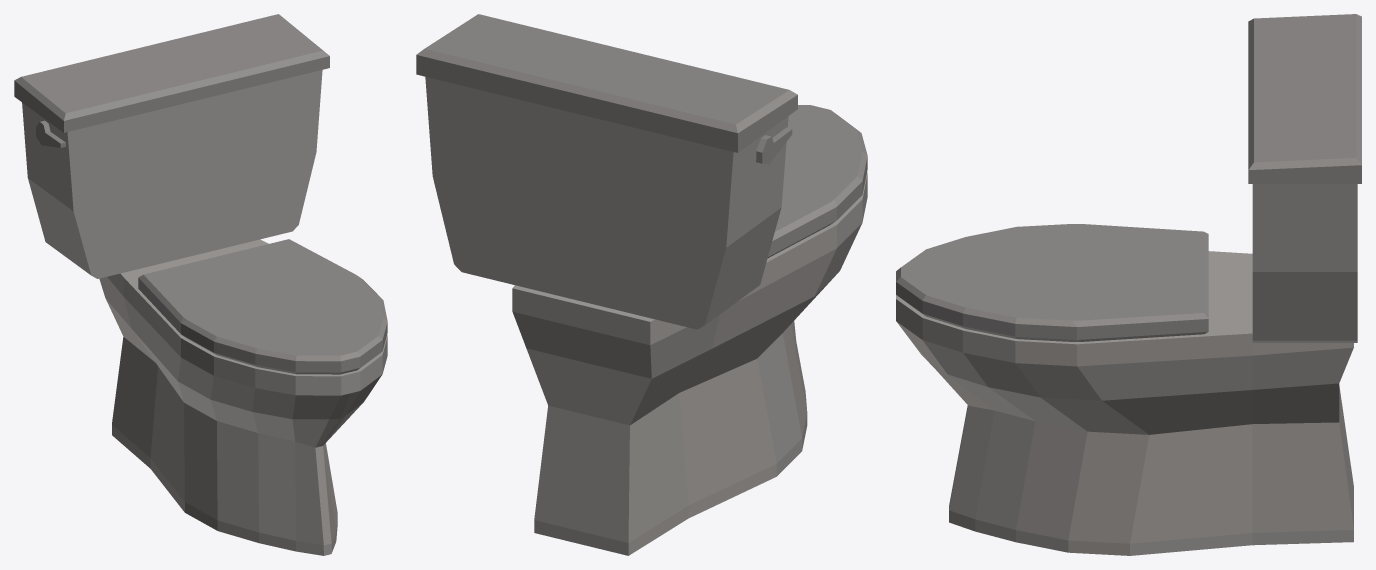
Rendered from SM_Props_Interior_House_Bathroom_Toilet_01.fbx.
The picture shows the model from 3 angles, left to right: view 1: azimuth 30°, elevation 25°; view 2: azimuth 150°, elevation 25°; view 3: azimuth 270°, elevation 25°; orthographic projection. The views are drawn at different scales.
Visible parts, largest first — view 1: SM_Props_Interior_House_Bathroom_Toilet_01; view 2: SM_Props_Interior_House_Bathroom_Toilet_01; view 3: SM_Props_Interior_House_Bathroom_Toilet_01.
Part boxes in pixels (x1=…): SM_Props_Interior_House_Bathroom_Toilet_01: x1=14, y1=14, x2=387, y2=555; SM_Props_Interior_House_Bathroom_Toilet_01: x1=416, y1=14, x2=867, y2=555; SM_Props_Interior_House_Bathroom_Toilet_01: x1=896, y1=14, x2=1361, y2=555.
Bounding box in the file's own units: 54.26 × 73.92 × 71.82.
